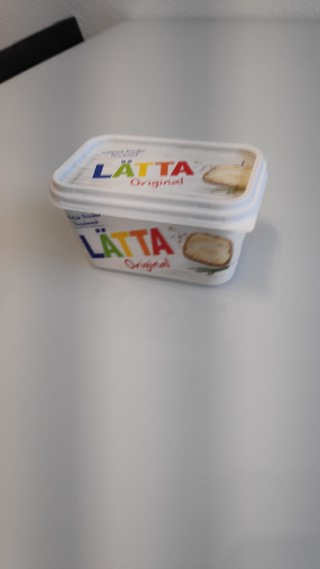laetta: (48, 132, 267, 288)
